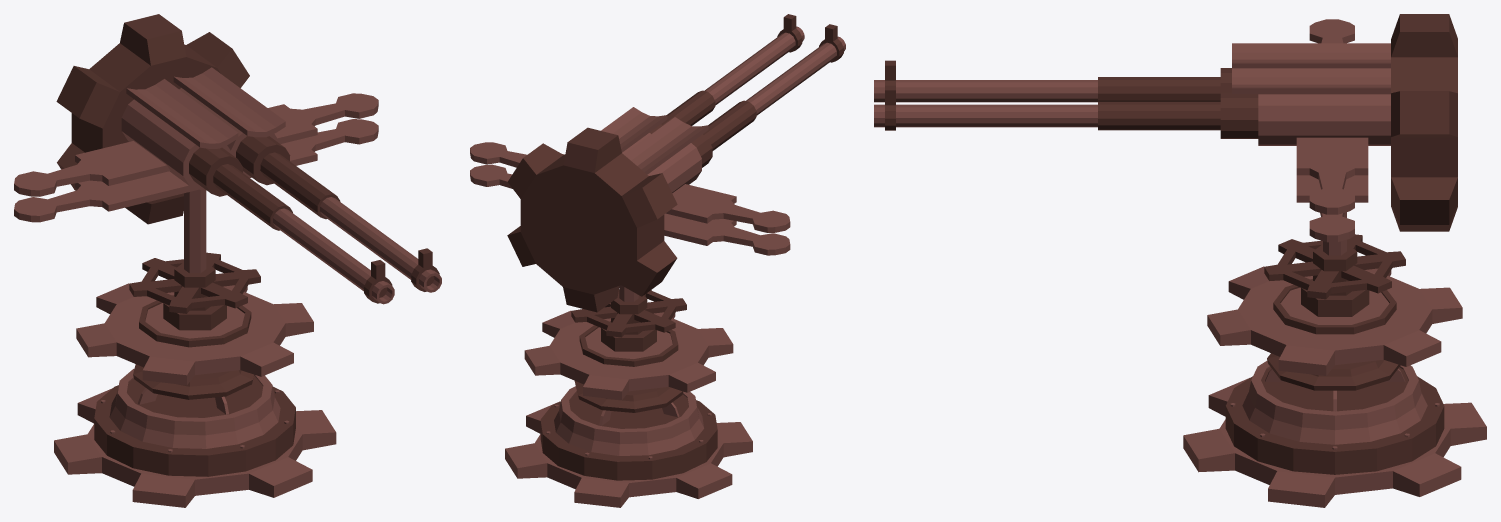
File: Gun_4.glb
3 renders of one model, left to right at view 1: azimuth 30°, elevation 25°; view 2: azimuth 150°, elevation 25°; view 3: azimuth 270°, elevation 25°, orthographic. The views are drawn at different scales.
Parts seen in each view (by area): view 1: Gun_4_Gun, Gun_4_Base, Gun_4_Mid; view 2: Gun_4_Gun, Gun_4_Base, Gun_4_Mid; view 3: Gun_4_Gun, Gun_4_Base, Gun_4_Mid.
Boxes of the visible parts, left/top/right/bottom form: Gun_4_Gun: left=14, top=14, right=441, bottom=304; Gun_4_Base: left=54, top=295, right=336, bottom=507; Gun_4_Mid: left=76, top=189, right=313, bottom=385; Gun_4_Gun: left=470, top=14, right=845, bottom=312; Gun_4_Base: left=505, top=325, right=752, bottom=507; Gun_4_Mid: left=524, top=285, right=733, bottom=400; Gun_4_Gun: left=874, top=14, right=1457, bottom=242; Gun_4_Base: left=1183, top=279, right=1486, bottom=507; Gun_4_Mid: left=1207, top=212, right=1462, bottom=375.
Bounding box in the file's own units: 2.02 × 2.12 × 2.78.
